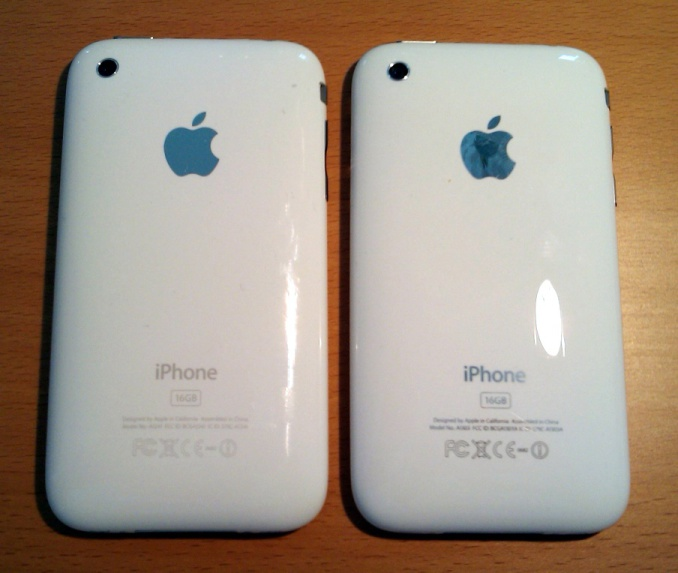apple: (455, 100, 535, 209), (150, 109, 244, 180)
